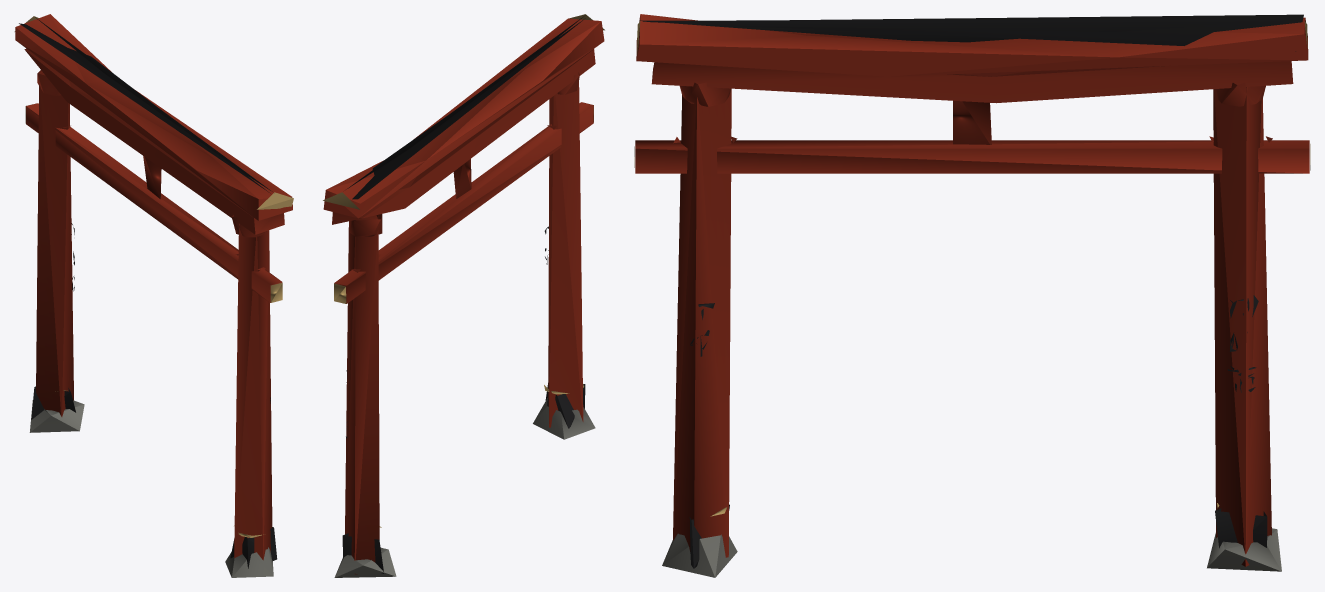
The model's file is SM_Torii_Small.glb.
3 renders of one model, left to right at view 1: azimuth 30°, elevation 25°; view 2: azimuth 150°, elevation 25°; view 3: azimuth 270°, elevation 25°, orthographic. The views are drawn at different scales.
Visible parts, largest first — view 1: SM_Torii_Small; view 2: SM_Torii_Small; view 3: SM_Torii_Small.
Part boxes in pixels (x1,y1,x2,y2): SM_Torii_Small: (14, 14, 293, 577); SM_Torii_Small: (323, 14, 604, 577); SM_Torii_Small: (634, 14, 1310, 577).
Bounding box in the file's own units: 0.5607 × 3.89 × 4.4.
